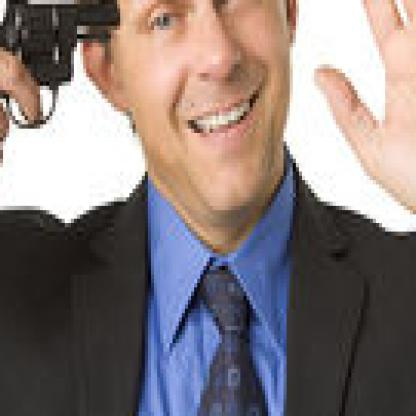gun: (0, 0, 130, 172)
